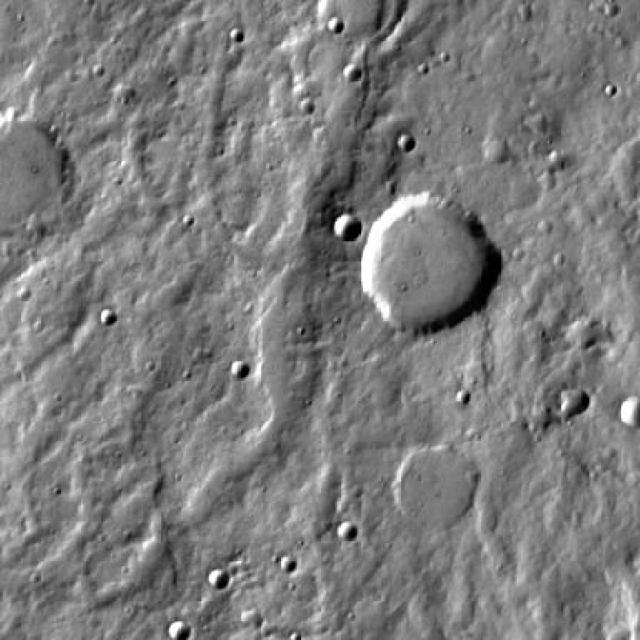crater: (356, 195, 501, 337), (0, 112, 71, 240), (388, 443, 474, 528), (306, 0, 400, 51), (614, 396, 640, 430), (332, 212, 361, 240), (564, 389, 590, 413), (482, 139, 507, 163), (167, 620, 190, 640), (232, 358, 252, 378), (340, 519, 360, 539), (401, 133, 419, 152), (280, 553, 298, 572), (209, 570, 228, 588), (343, 64, 362, 82), (100, 306, 118, 323), (329, 16, 346, 33), (302, 96, 318, 112)
